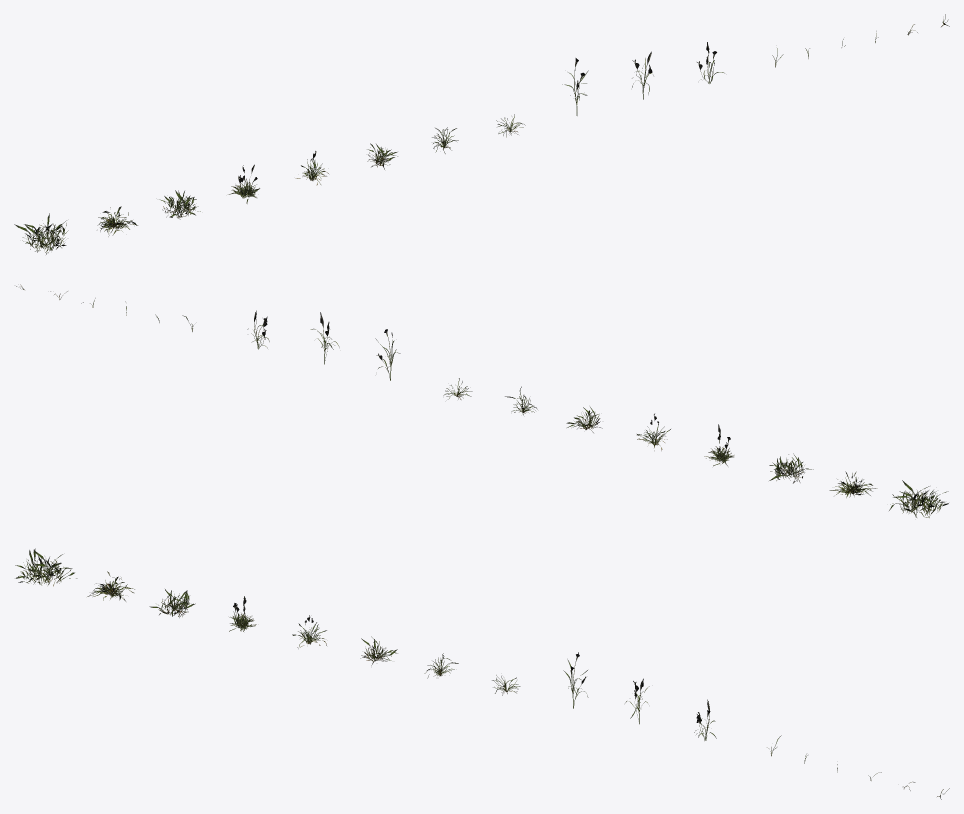
Rendered from grass_medium_01_leaf.glb.
The picture shows the model from 3 angles, top to bottom: view 1: azimuth 30°, elevation 25°; view 2: azimuth 150°, elevation 25°; view 3: azimuth 330°, elevation 25°; orthographic projection.
Visible parts, largest first — view 1: grass_medium_01_large_a_LOD0, grass_medium_01_large_c_LOD0; view 2: grass_medium_01_large_a_LOD0, grass_medium_01_large_c_LOD0; view 3: grass_medium_01_large_a_LOD0.
Part boxes in pixels (x1,y1,x2,y2): grass_medium_01_large_a_LOD0: [14, 213, 68, 254]; grass_medium_01_large_c_LOD0: [159, 190, 200, 219]; grass_medium_01_large_a_LOD0: [889, 480, 948, 517]; grass_medium_01_large_c_LOD0: [769, 453, 813, 483]; grass_medium_01_large_a_LOD0: [15, 548, 77, 586].
Size of the model in its own units: 5.61 by 0.3382 by 0.3141.
1 material, 1 textured.
